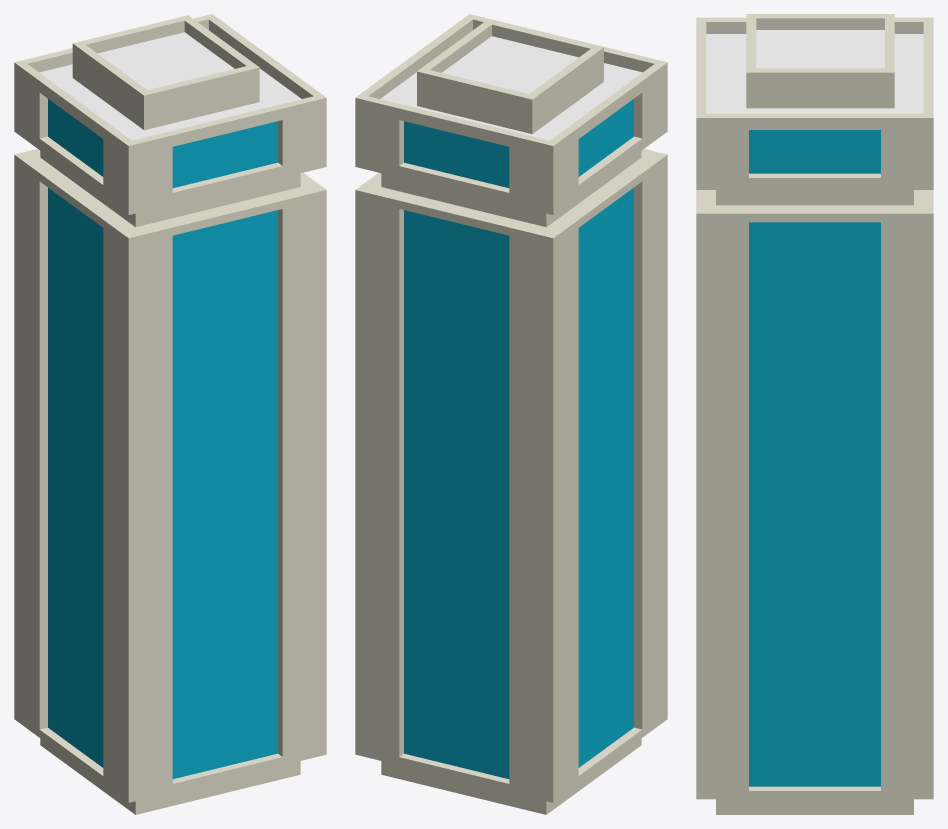
Rendered from skyscraper_1.fbx.
3 views of the same model, side by side, from view 1: azimuth 30°, elevation 25°; view 2: azimuth 150°, elevation 25°; view 3: azimuth 270°, elevation 25° (orthographic). The views are drawn at different scales.
Parts seen in each view (by area): view 1: Cube.001; view 2: Cube.001; view 3: Cube.001.
Part boxes in pixels (box(x1,y1,x2,y2)): Cube.001: box(14, 14, 326, 814); Cube.001: box(355, 14, 667, 814); Cube.001: box(696, 14, 933, 814).
Bounding box in the file's own units: 1800 × 6100 × 1800.
